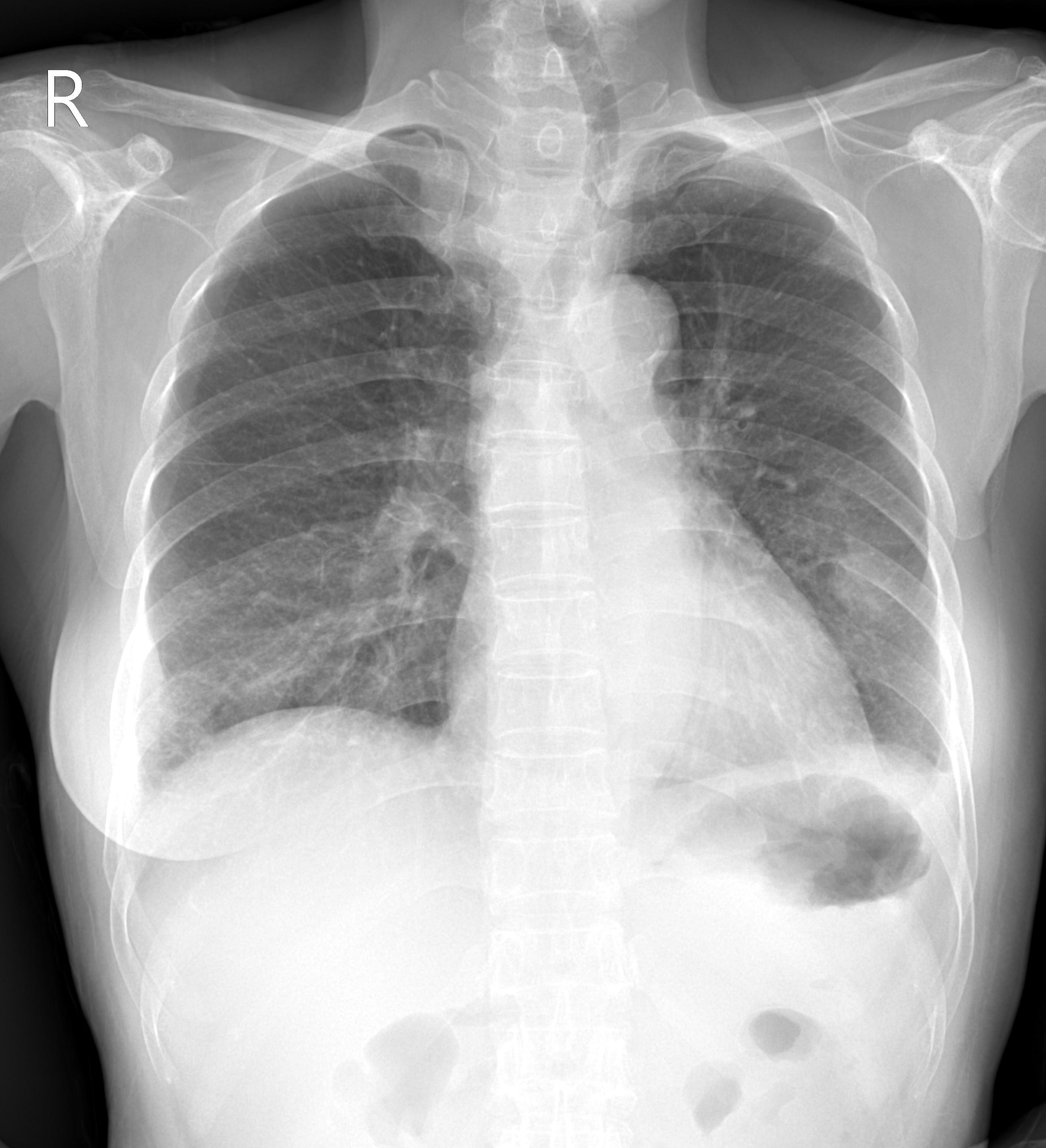Pleural thickening: (896, 715, 964, 801)
